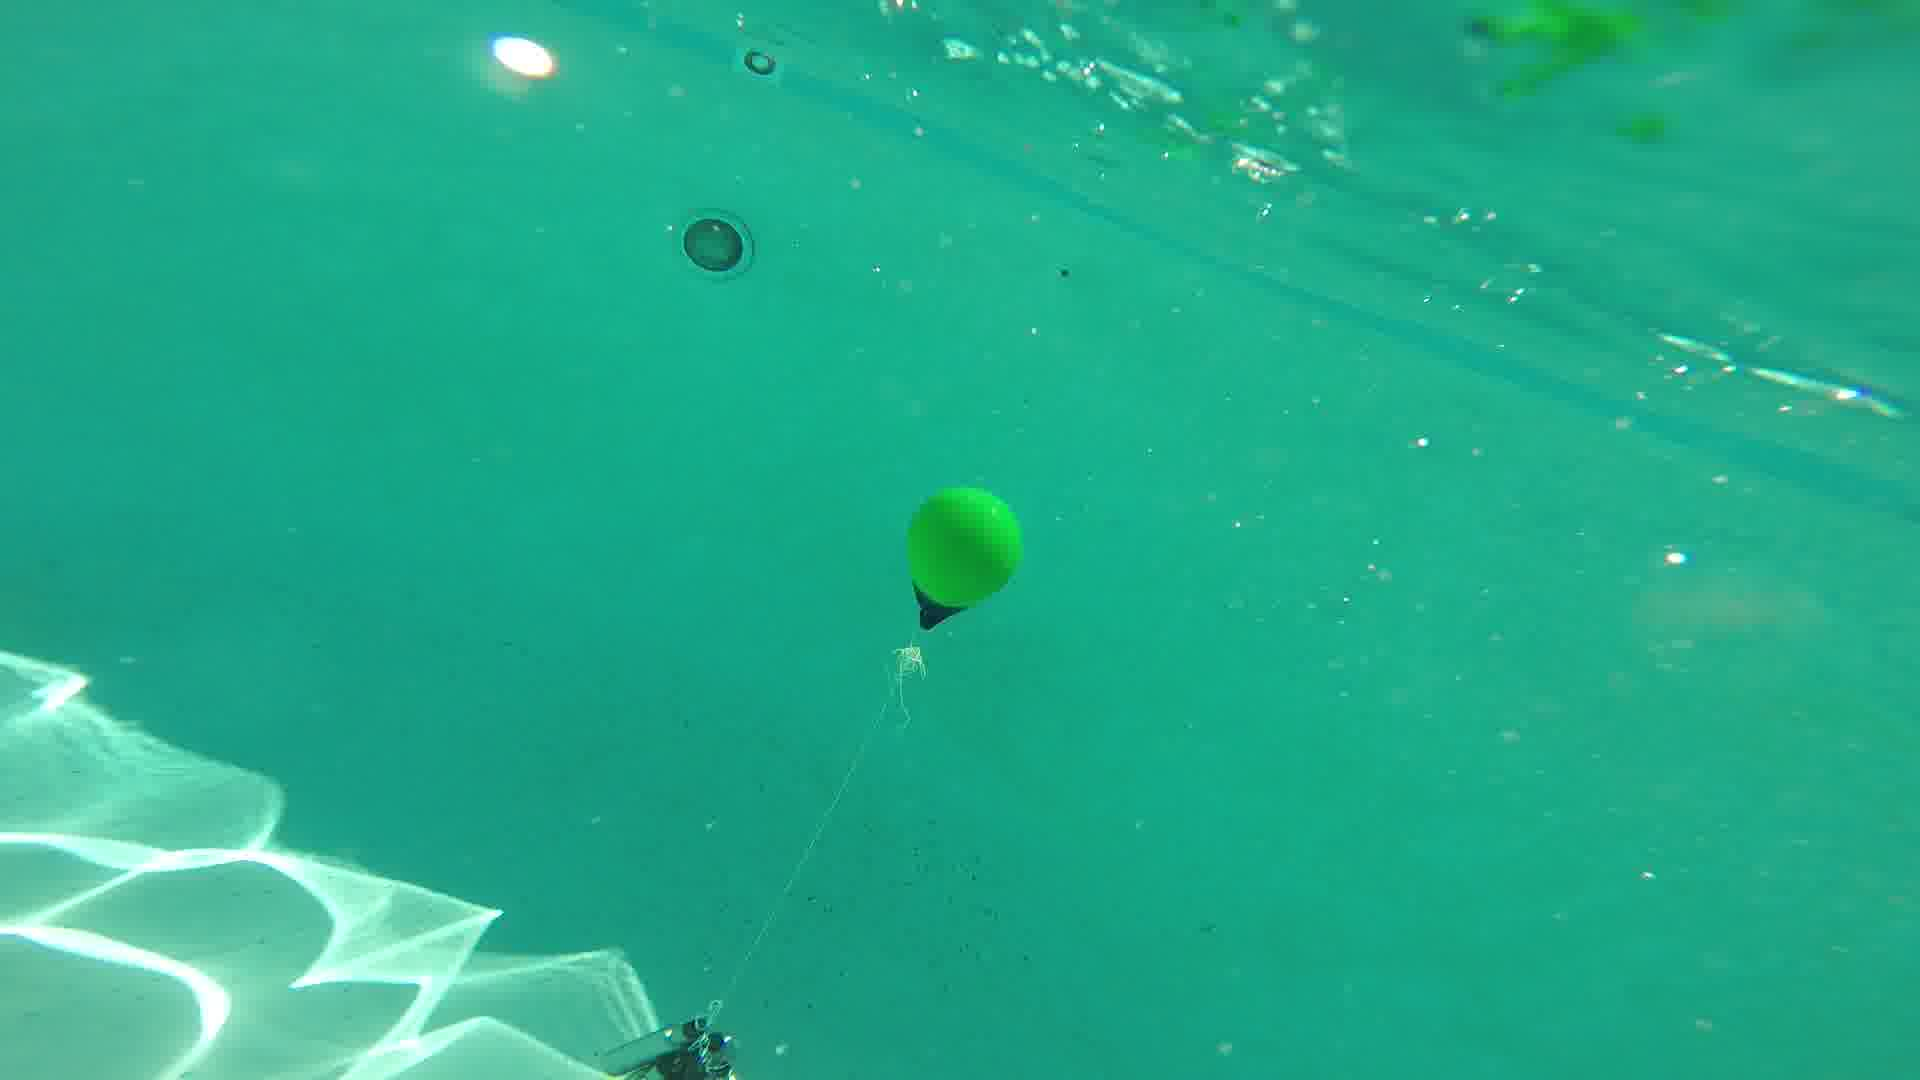yellow_buoy: (906, 485, 1021, 632)
